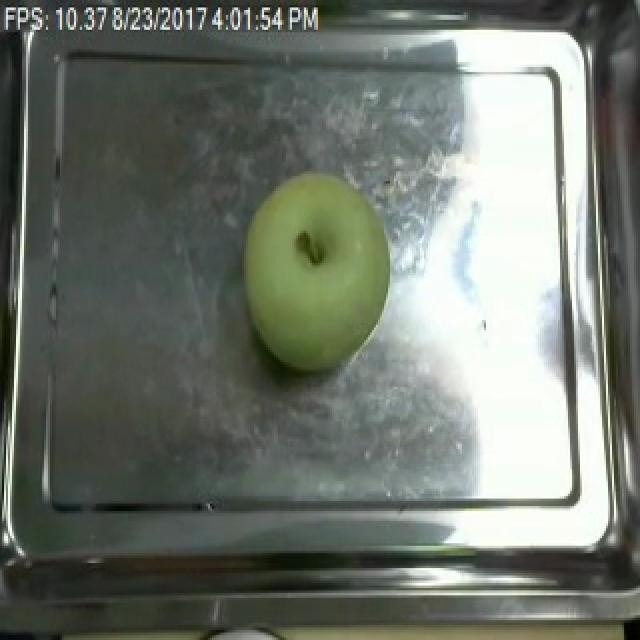50-_ripeness: (205, 162, 410, 388)
